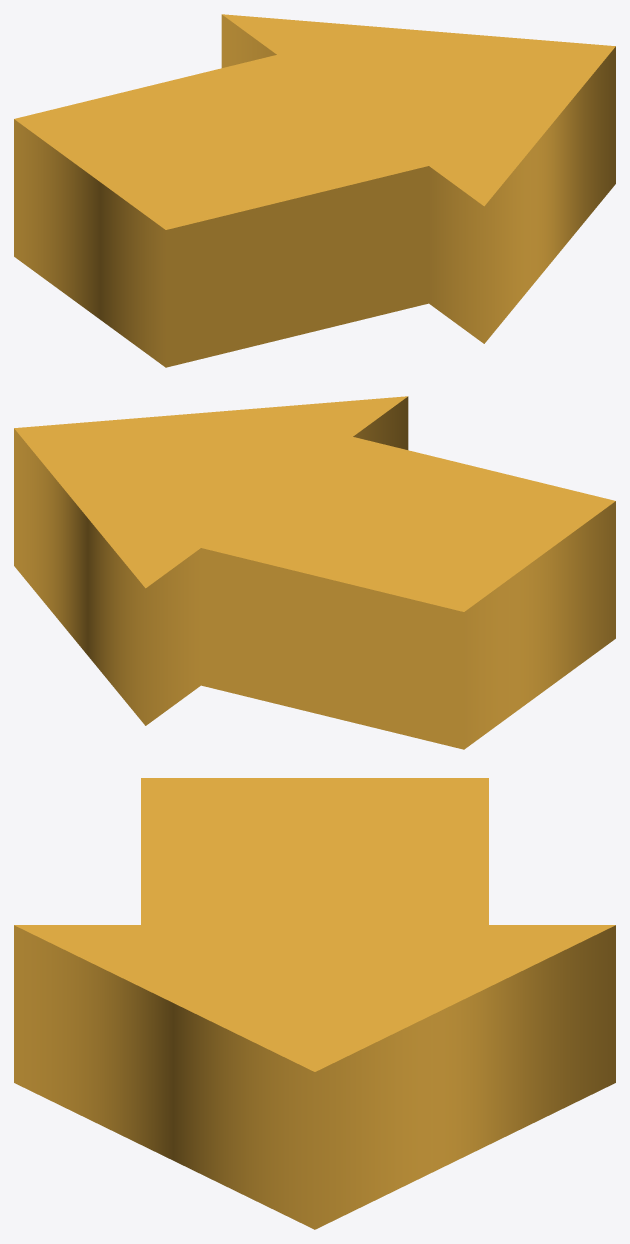
Rendered from Arrow-transformed.glb.
3 renders of one model, top to bottom at view 1: azimuth 30°, elevation 25°; view 2: azimuth 150°, elevation 25°; view 3: azimuth 270°, elevation 25°, orthographic. The views are drawn at different scales.
Parts seen in each view (by area): view 1: arrow; view 2: arrow; view 3: arrow.
Part boxes in pixels (x1,y1,x2,y2): arrow: [14, 14, 615, 367]; arrow: [14, 396, 615, 749]; arrow: [14, 778, 615, 1229].
Size of the model in its own units: 0.8 by 0.2 by 0.692.
